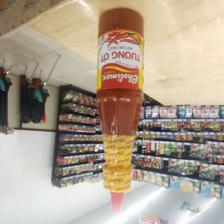Tuong: (96, 9, 145, 212)
